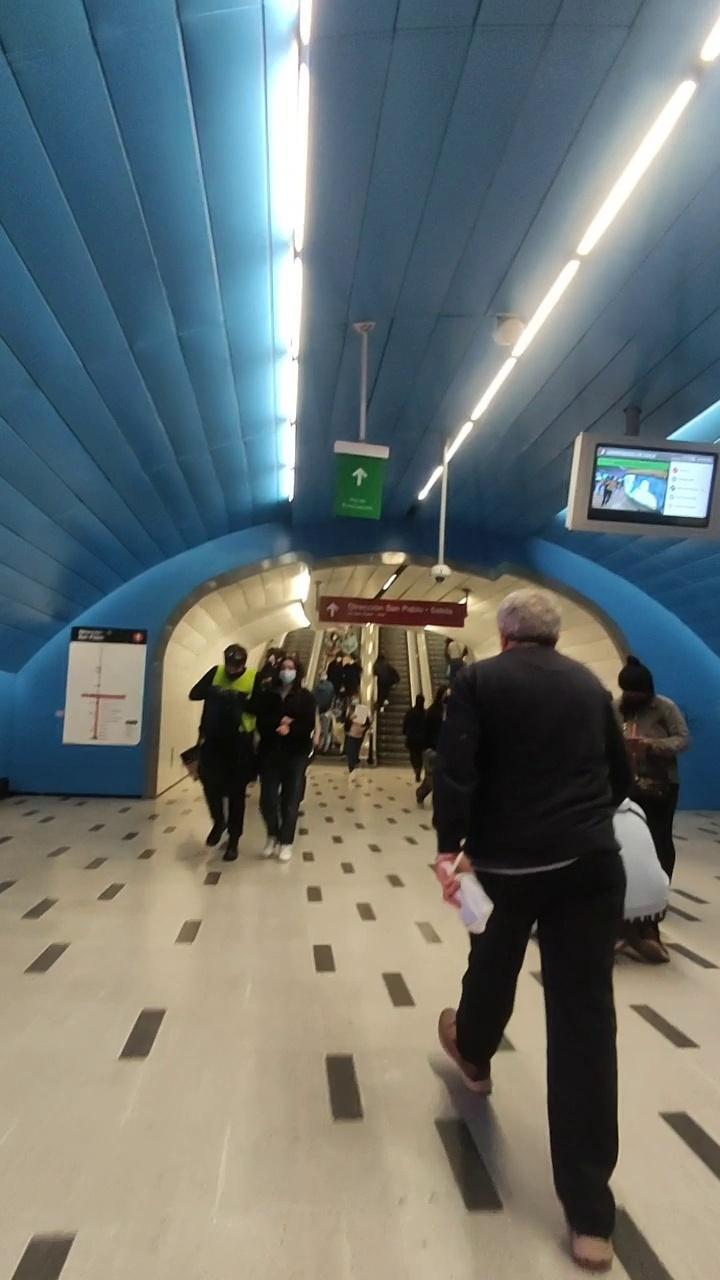up arrow: (320, 602, 342, 618)
